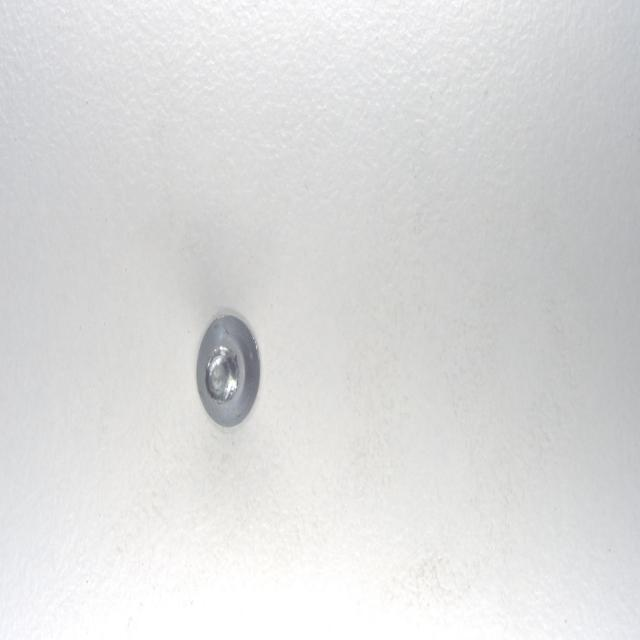Screw: (197, 315, 260, 426)
